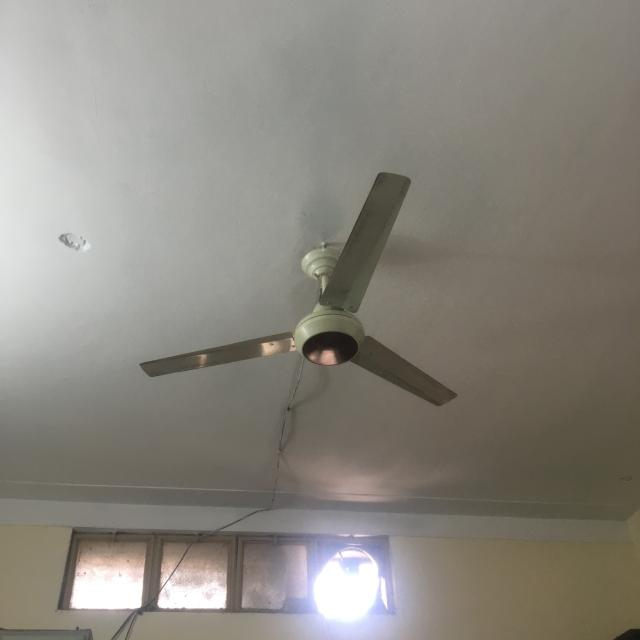off: (132, 165, 465, 415)
